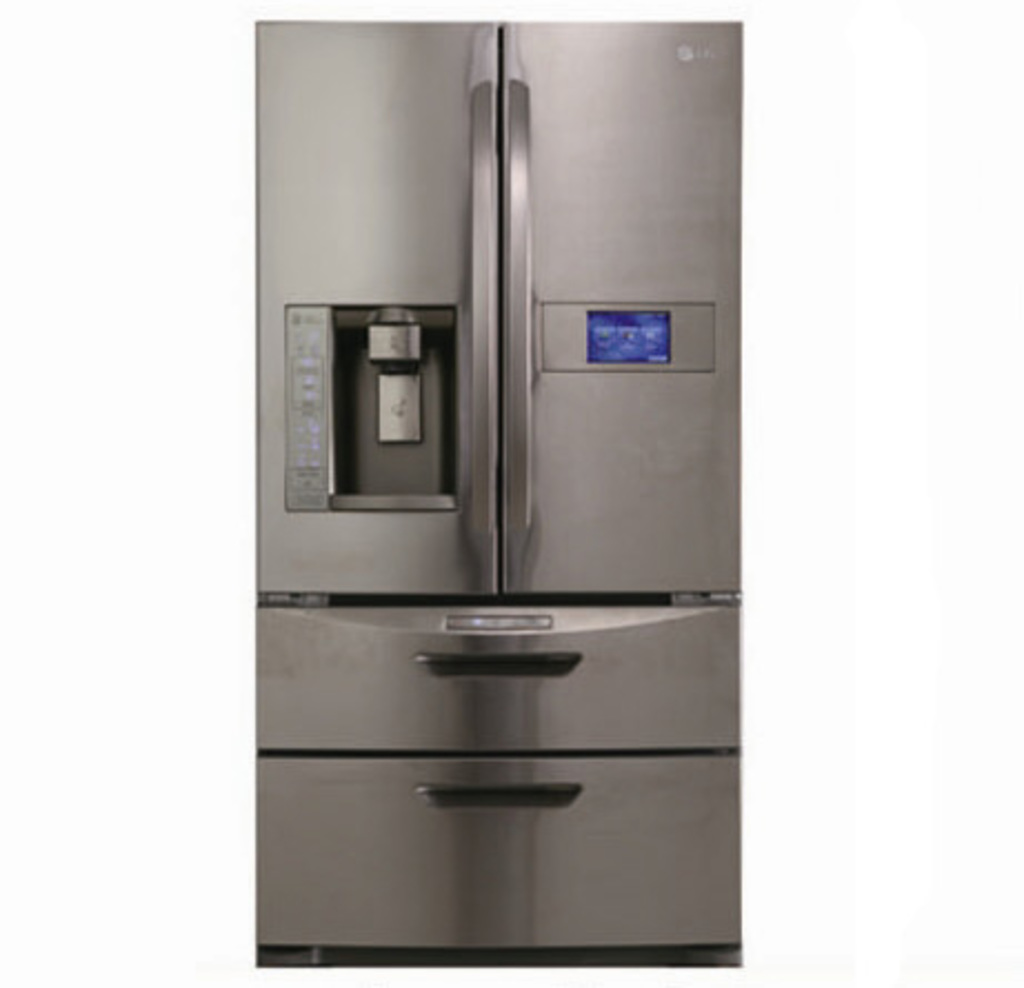handle: (459, 84, 499, 561), (505, 80, 534, 546), (417, 762, 583, 825), (408, 635, 583, 690)
refrigerator door: (260, 32, 488, 593), (509, 40, 723, 600), (258, 760, 740, 939), (270, 602, 731, 751)
